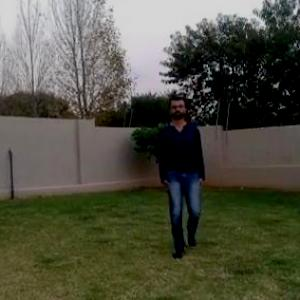follow: (165, 96, 204, 249)
